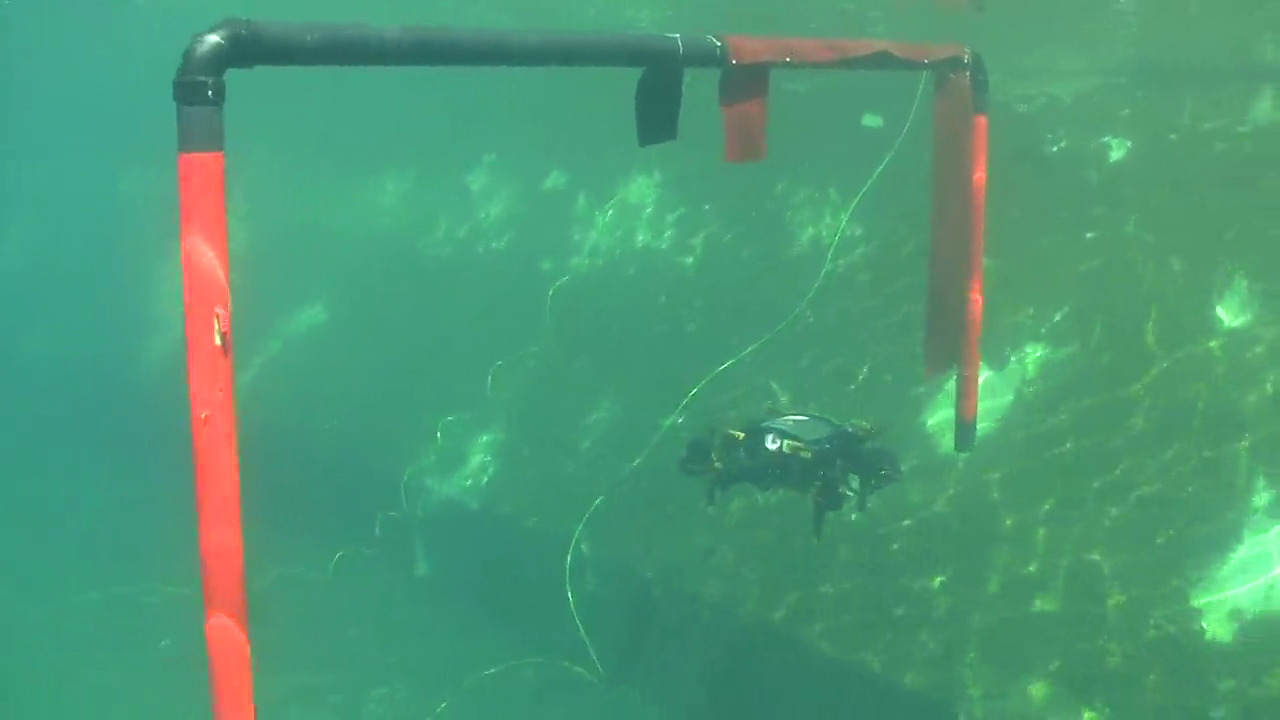gate: (166, 10, 998, 418)
